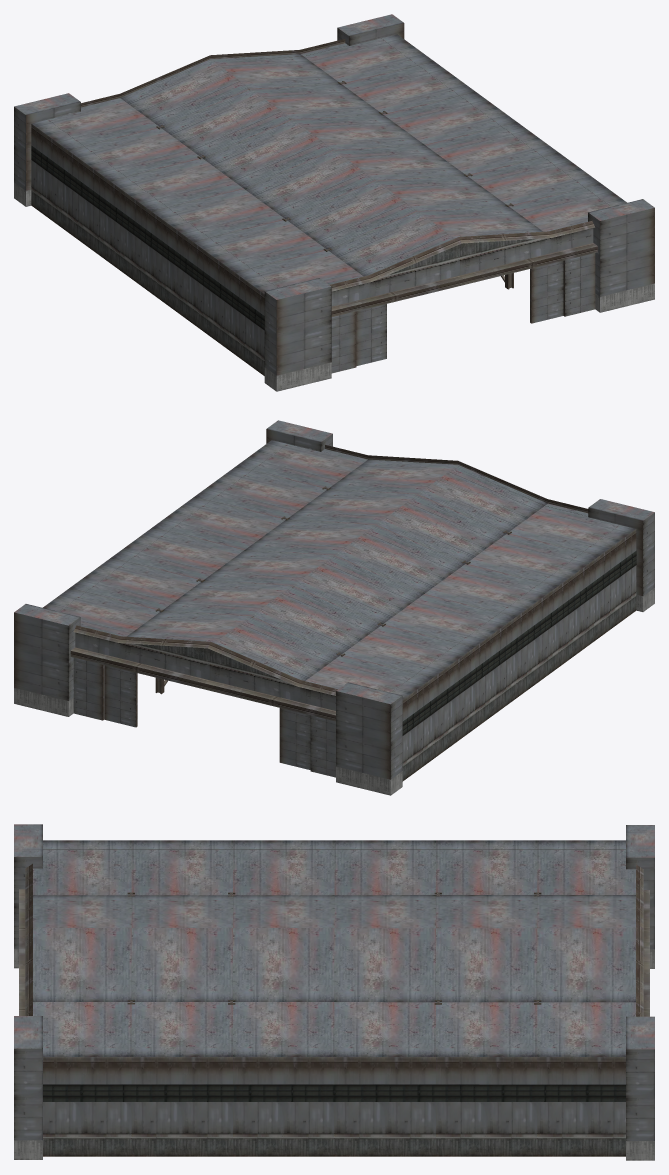
The model's file is ind-hangar.lod0.glb.
3 views of the same model, one above another, from view 1: azimuth 30°, elevation 25°; view 2: azimuth 150°, elevation 25°; view 3: azimuth 270°, elevation 25° (orthographic). The views are drawn at different scales.
Visible parts, largest first — view 1: Industrial_Hangar_2_Industrial_Walls_FLR_1_0, Industrial_Hangar_2_Industrial_Windows_FLR_1_0; view 2: Industrial_Hangar_2_Industrial_Walls_FLR_1_0, Industrial_Hangar_2_Industrial_Windows_FLR_1_0; view 3: Industrial_Hangar_2_Industrial_Walls_FLR_1_0, Industrial_Hangar_2_Industrial_Windows_FLR_1_0.
Part boxes in pixels (x1,y1,x2,y2): Industrial_Hangar_2_Industrial_Walls_FLR_1_0: (14,14,654,391); Industrial_Hangar_2_Industrial_Windows_FLR_1_0: (31,145,264,330); Industrial_Hangar_2_Industrial_Walls_FLR_1_0: (14,420,654,795); Industrial_Hangar_2_Industrial_Windows_FLR_1_0: (402,550,636,735); Industrial_Hangar_2_Industrial_Walls_FLR_1_0: (14,824,654,1160); Industrial_Hangar_2_Industrial_Windows_FLR_1_0: (43,1084,625,1101).
Bounding box in the file's own units: 49.78 × 12.88 × 59.96.
2 materials, 2 textured.
